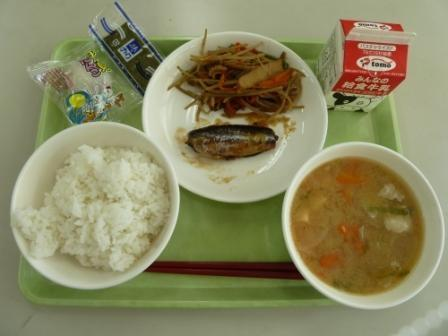Fish: (183, 118, 284, 170)
Milk: (319, 13, 416, 112)
Rice: (17, 140, 164, 281)
Soups: (285, 145, 438, 301)
pasta: (180, 37, 305, 115)
